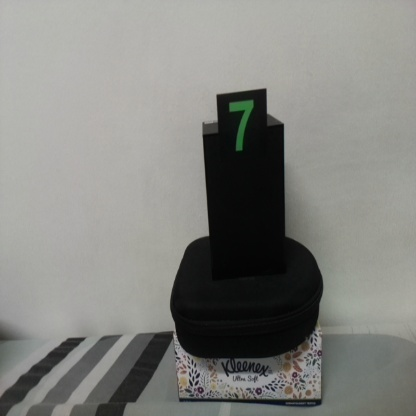id_7: (216, 94, 267, 170)
